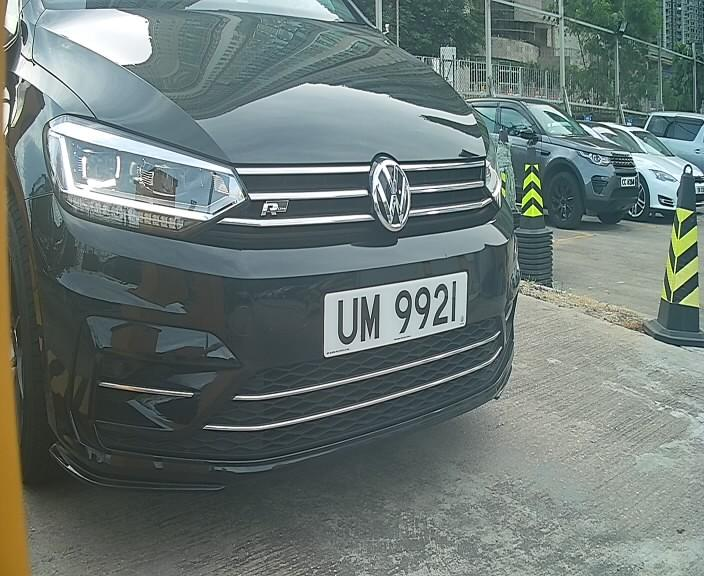License Plate: (315, 270, 475, 363)
